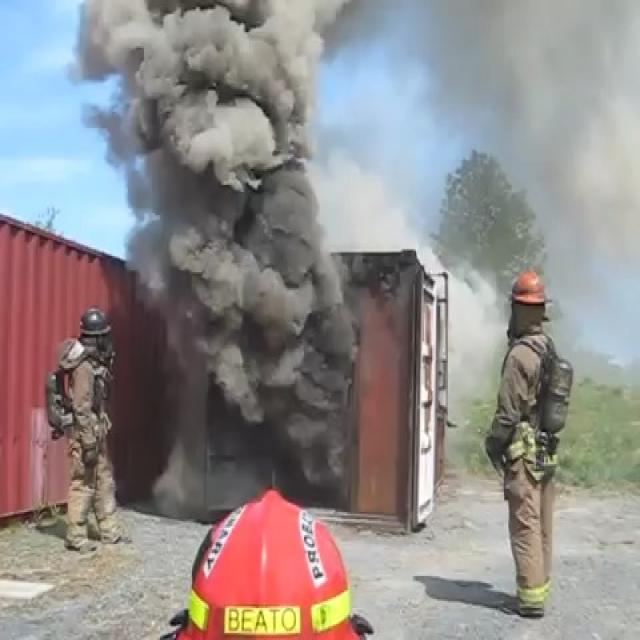Smoke: (136, 6, 332, 498)
